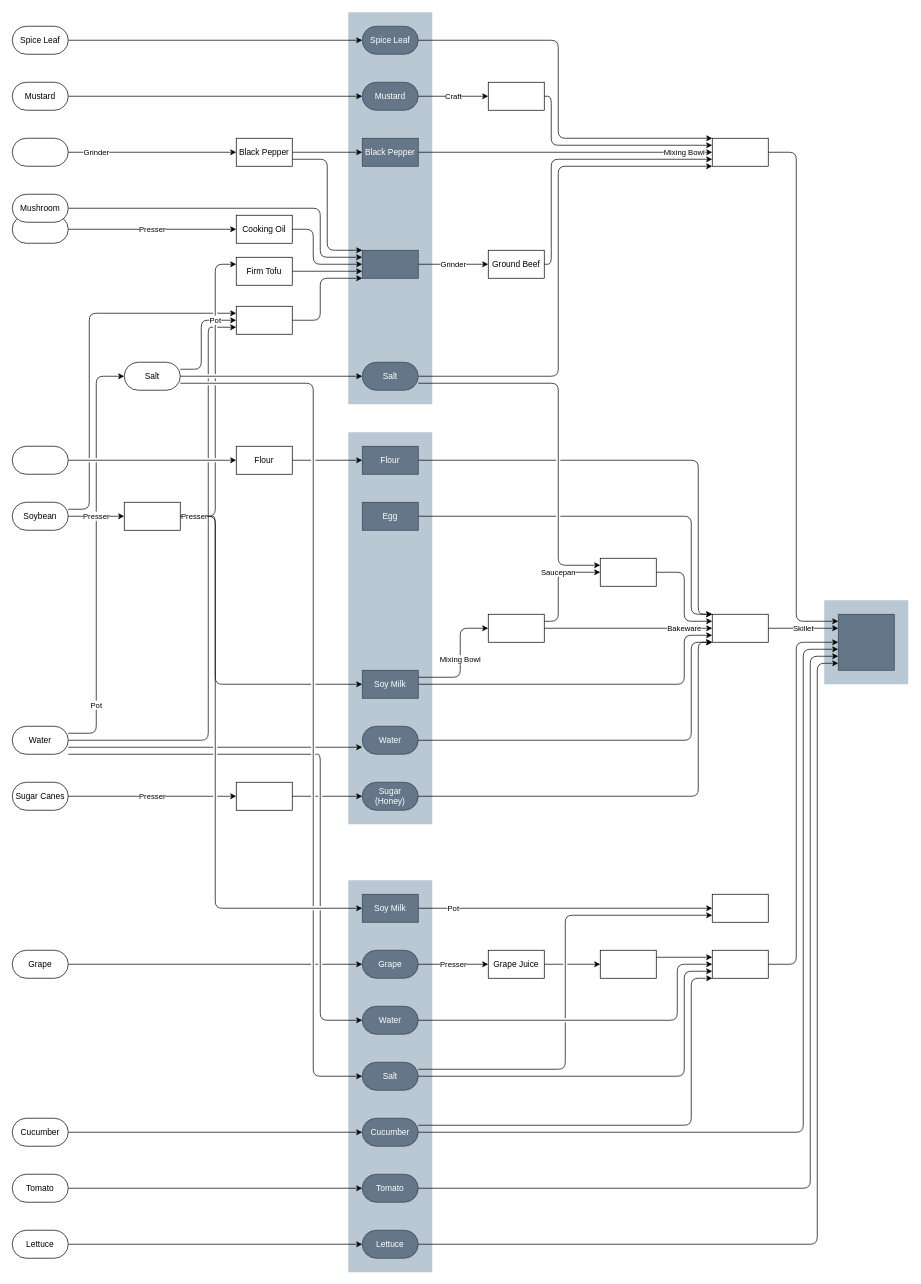
The diagram is 921 pixels wide and 1284 high, and some of its shapes have lost their labels. Each missing label, with the box of its shape:
(Walnut): (12, 215, 68, 243)
Brioche: (712, 614, 768, 642)
Butter: (600, 558, 656, 586)
Cheese: (712, 894, 768, 922)
Gourmet Beef Burger: (838, 614, 894, 670)
Gourmet Beef Patty: (712, 138, 768, 166)
Heavy Cream: (488, 614, 544, 642)
Mustard Seed: (488, 82, 544, 110)
Peppercorn: (12, 138, 68, 166)
Pickles: (712, 950, 768, 978)
Raw Tofeak: (362, 250, 418, 278)
Silken Tofu: (124, 502, 180, 530)
Soy Sauce: (236, 306, 292, 334)
Sugar: (236, 782, 292, 810)
Vinegar: (600, 950, 656, 978)
Wheat: (12, 446, 68, 474)
